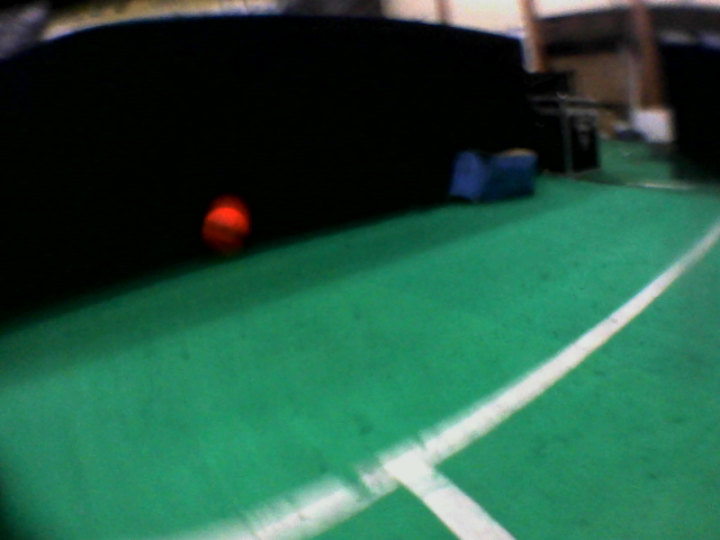bola: (194, 199, 251, 253)
